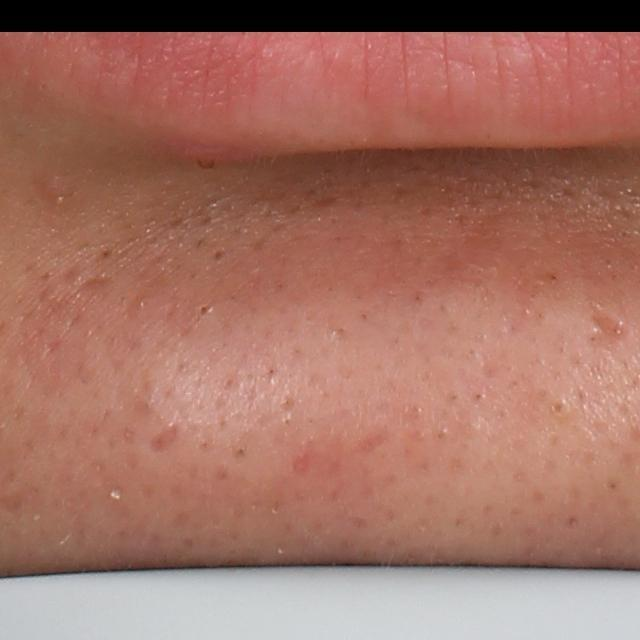atrophic_scar: (147, 420, 182, 457)
comedo: (546, 395, 576, 422), (194, 298, 215, 316), (211, 247, 228, 264)
